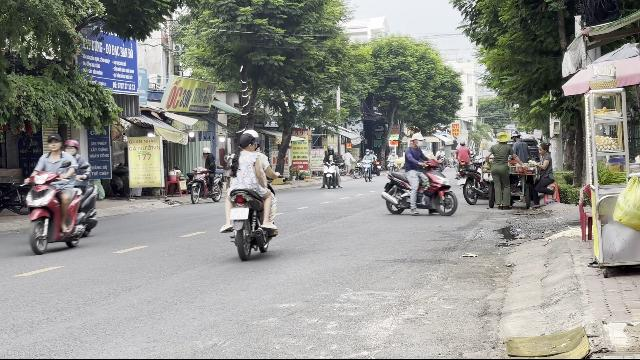helmet: (63, 138, 79, 154)
licenseplate: (230, 208, 248, 218)
motorcyclist: (19, 133, 101, 254), (220, 126, 280, 258), (380, 131, 460, 217)
nohelmet: (237, 132, 257, 152), (44, 133, 62, 153), (409, 132, 426, 148)
